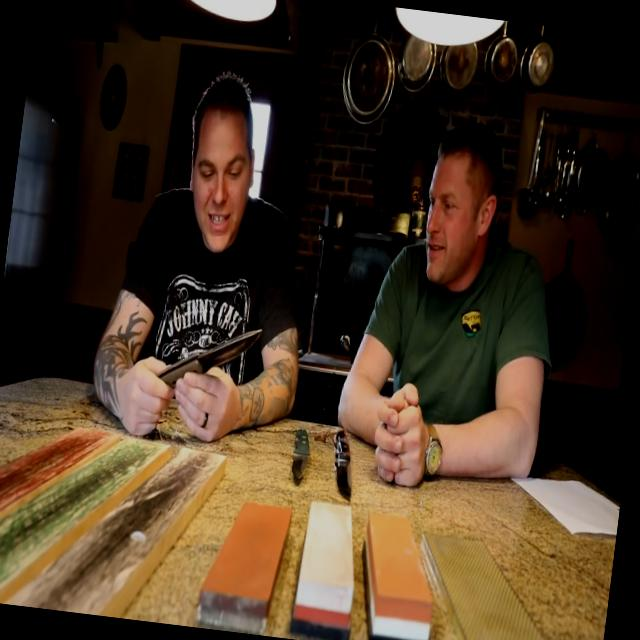knife: (130, 300, 274, 426)
